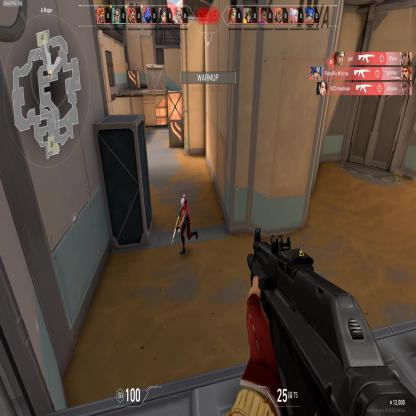enemy: (174, 192, 198, 256)
